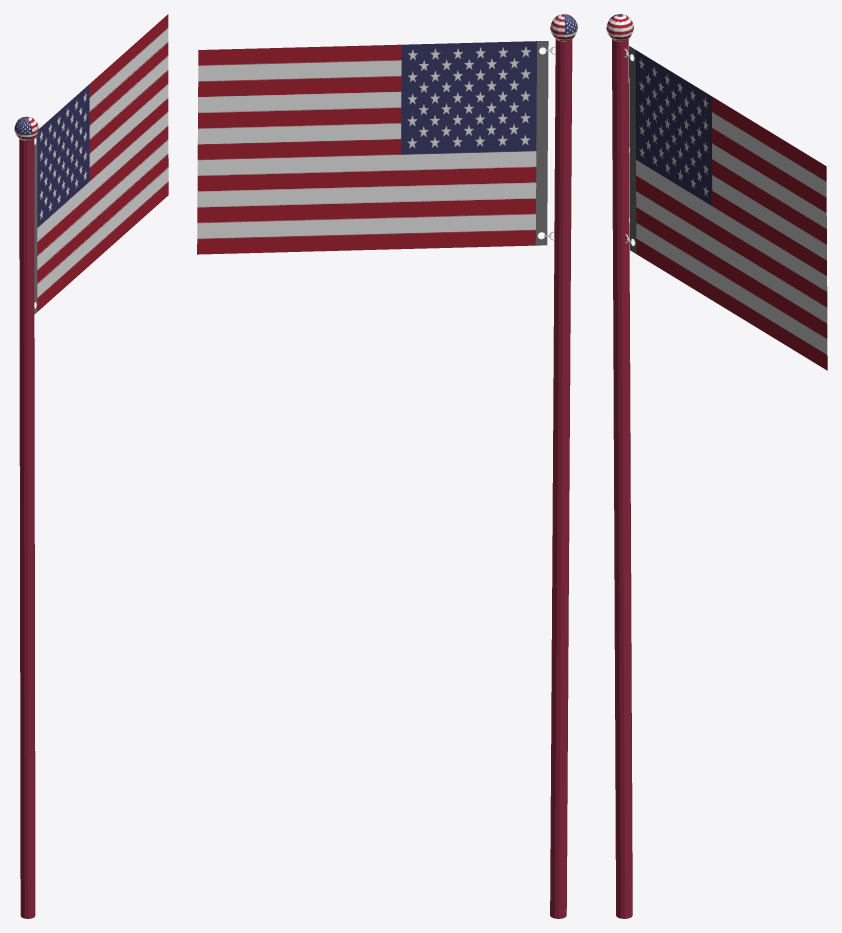
File: American_Flag.fbx
3 renders of one model, left to right at view 1: azimuth 30°, elevation 25°; view 2: azimuth 150°, elevation 25°; view 3: azimuth 270°, elevation 25°, orthographic. The views are drawn at different scales.
Visible parts, largest first — view 1: American_Flag; view 2: American_Flag; view 3: American_Flag.
Part boxes in pixels (<box>): American_Flag: <box>14,14,168,918</box>; American_Flag: <box>197,14,577,918</box>; American_Flag: <box>606,14,827,918</box>.
Size of the model in its own units: 7000 by 21869 by 4878.
